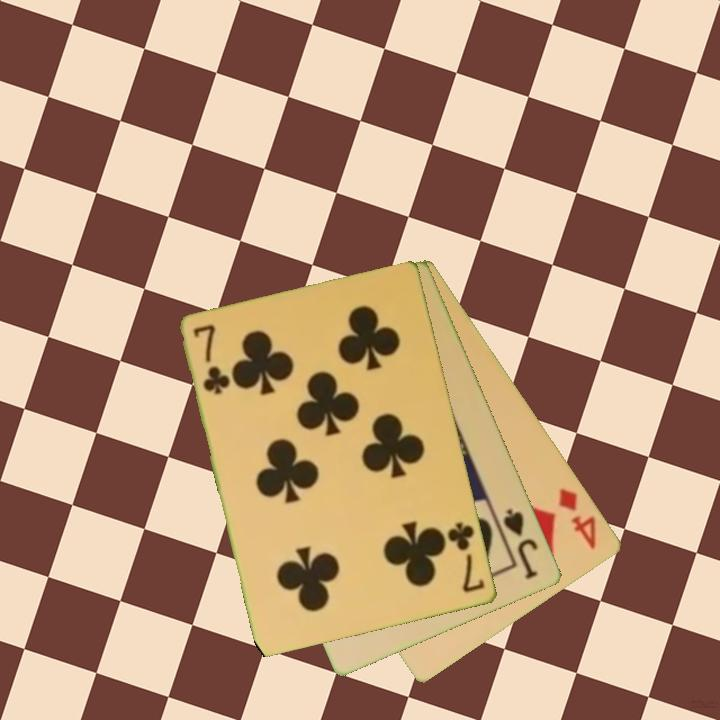4d: (555, 485, 600, 553)
7c: (444, 519, 488, 596), (190, 321, 232, 398)
Js: (500, 505, 542, 583)
